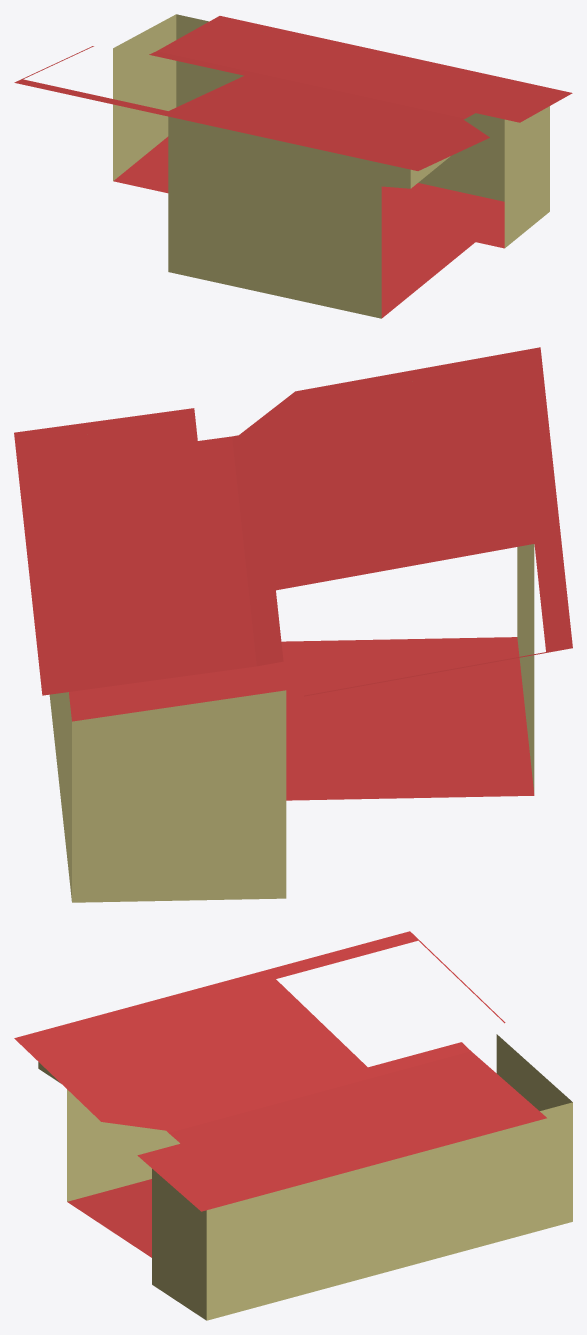
The picture shows the model from 3 angles, top to bottom: view 1: azimuth 30°, elevation 25°; view 2: azimuth 150°, elevation 25°; view 3: azimuth 270°, elevation 25°; orthographic projection. The views are drawn at different scales.
Bounding box in the file's own units: 23.17 × 23.7 × 7.91.
